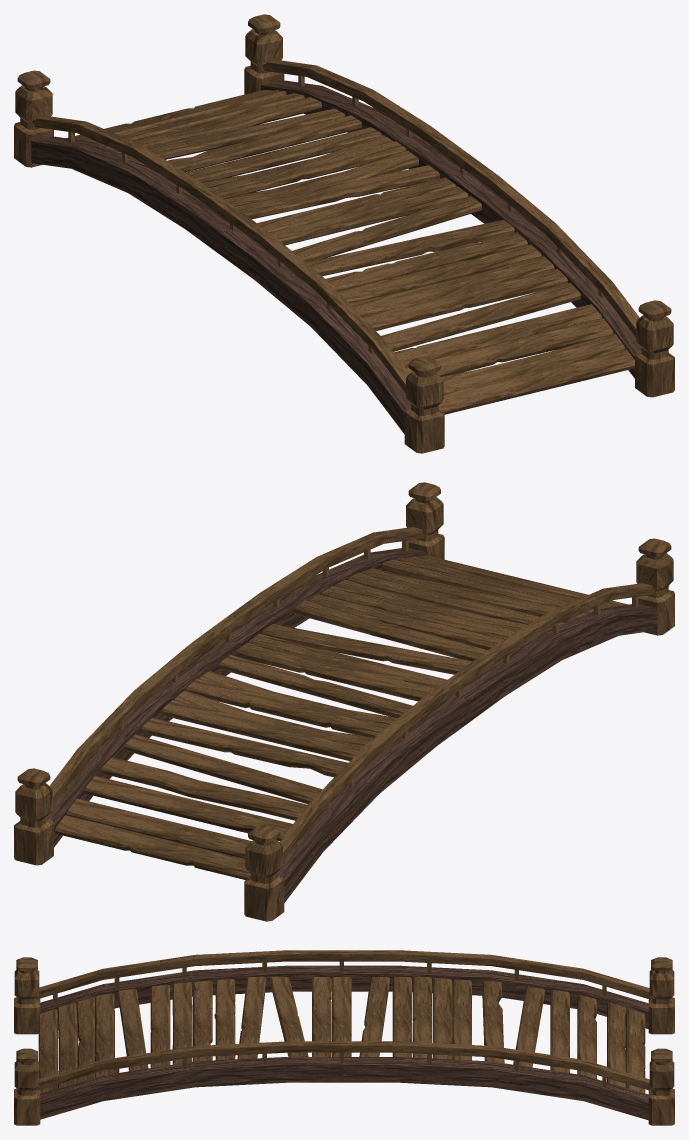
The model's file is Bridge01.glb.
The picture shows the model from 3 angles, top to bottom: view 1: azimuth 30°, elevation 25°; view 2: azimuth 150°, elevation 25°; view 3: azimuth 270°, elevation 25°; orthographic projection. The views are drawn at different scales.
Visible parts, largest first — view 1: Bridge01; view 2: Bridge01; view 3: Bridge01.
Boxes of the visible parts, left/top/right/bottom form: Bridge01: left=14, top=14, right=674, bottom=453; Bridge01: left=14, top=482, right=674, bottom=921; Bridge01: left=14, top=950, right=674, bottom=1125.
Bounding box in the file's own units: 11.02 × 3.84 × 30.07.
3 materials, 3 textured.
